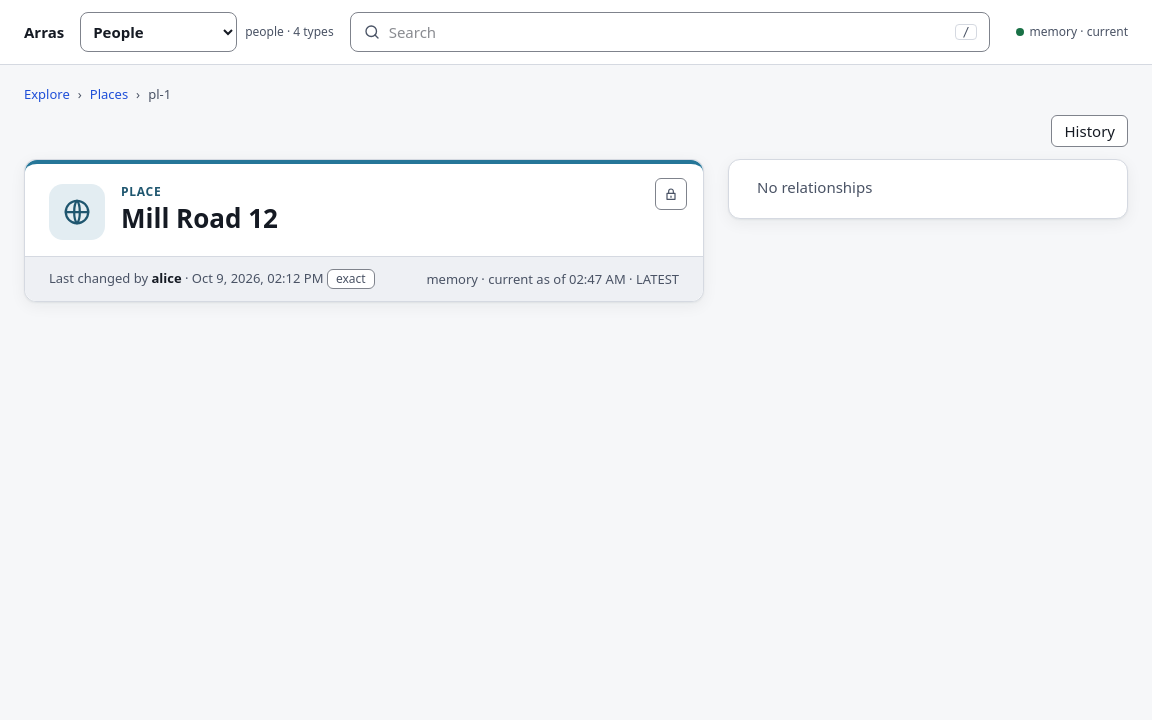
Test: header pencils on a module that is not the catalog › offers one pencil, opening one dialog, where a form changes both properties of a title
The image size is (1152, 720).
Click the button named "Edit mode".
click(671, 194)  # box [655, 178, 687, 210]
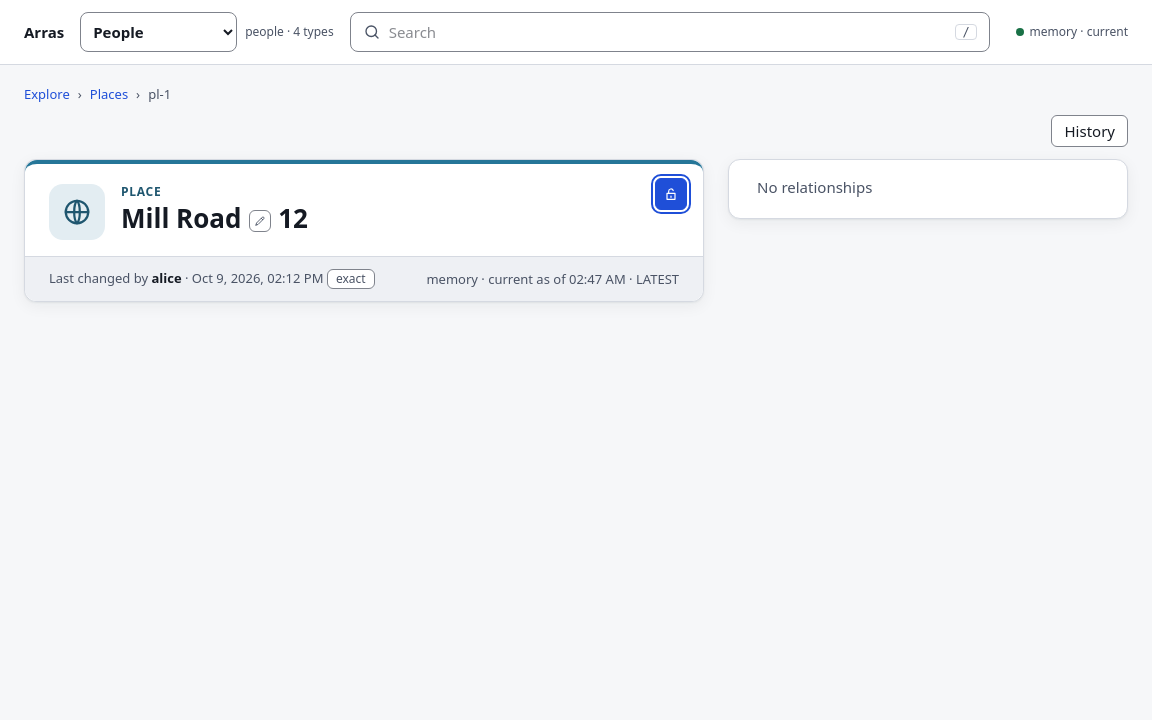
Expected: the number of buttons named "Edit " is 1
Click the button named "Edit ".
click(260, 221)  # box [250, 210, 272, 232]
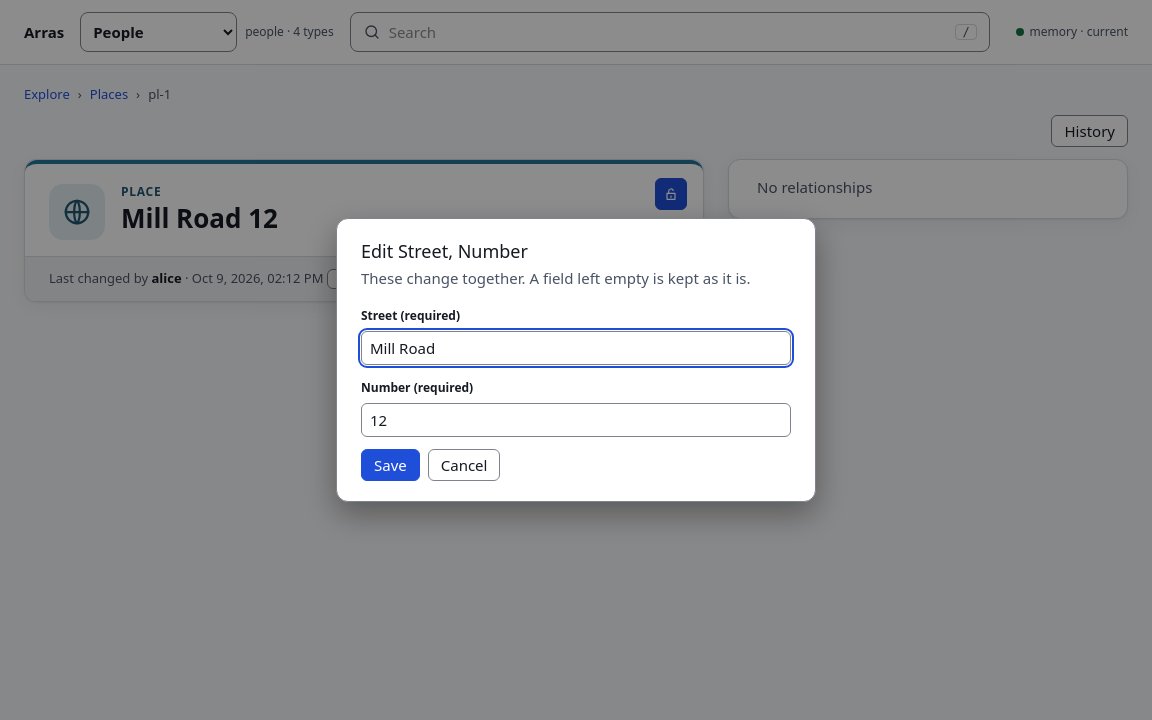
Expected: the number of dialogs is 1, [336, 218, 816, 502]
